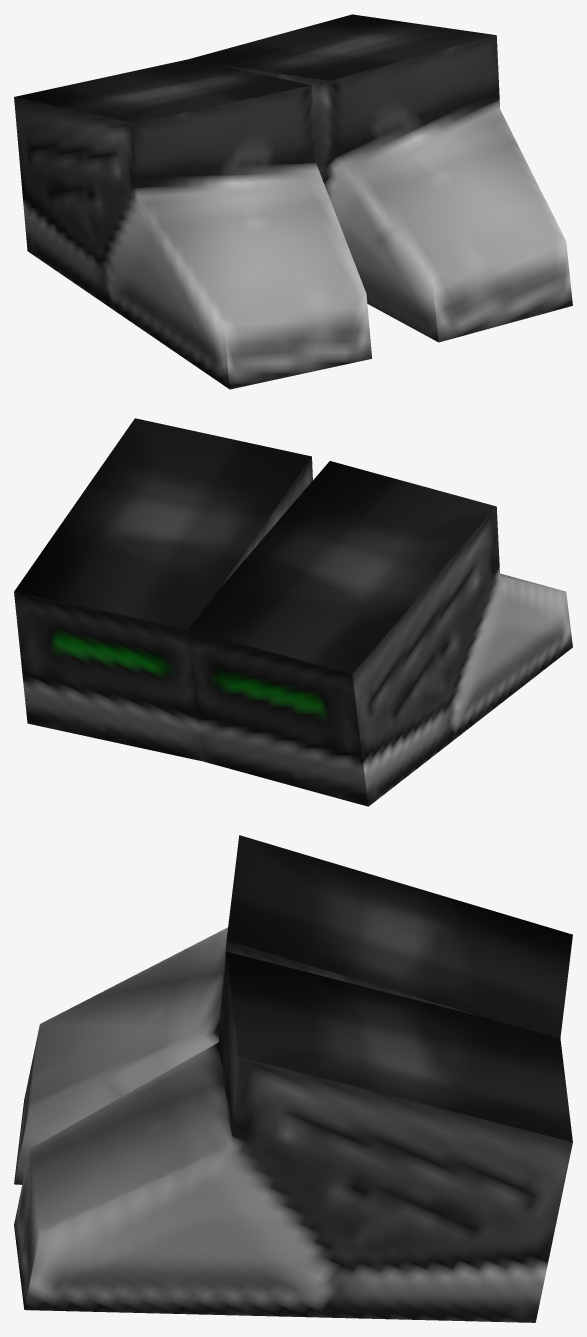
File: mps_boots.obj
The picture shows the model from 3 angles, top to bottom: view 1: azimuth 30°, elevation 25°; view 2: azimuth 150°, elevation 25°; view 3: azimuth 270°, elevation 25°; orthographic projection. The views are drawn at different scales.
Visible parts, largest first — view 1: boots1, boots2; view 2: boots1, boots2; view 3: boots2, boots1.
Boxes of the visible parts, bbox=[...] form: boots1: bbox=[14, 59, 371, 389]; boots2: bbox=[189, 14, 572, 342]; boots1: bbox=[188, 461, 572, 806]; boots2: bbox=[14, 418, 312, 761]; boots2: bbox=[14, 951, 572, 1322]; boots1: bbox=[14, 835, 572, 1184].
Bounding box in the file's own units: 9.09 × 5.19 × 9.66.
